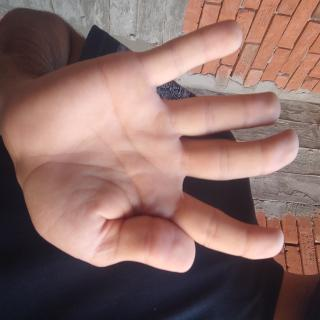SHEEN: (6, 21, 209, 320)
